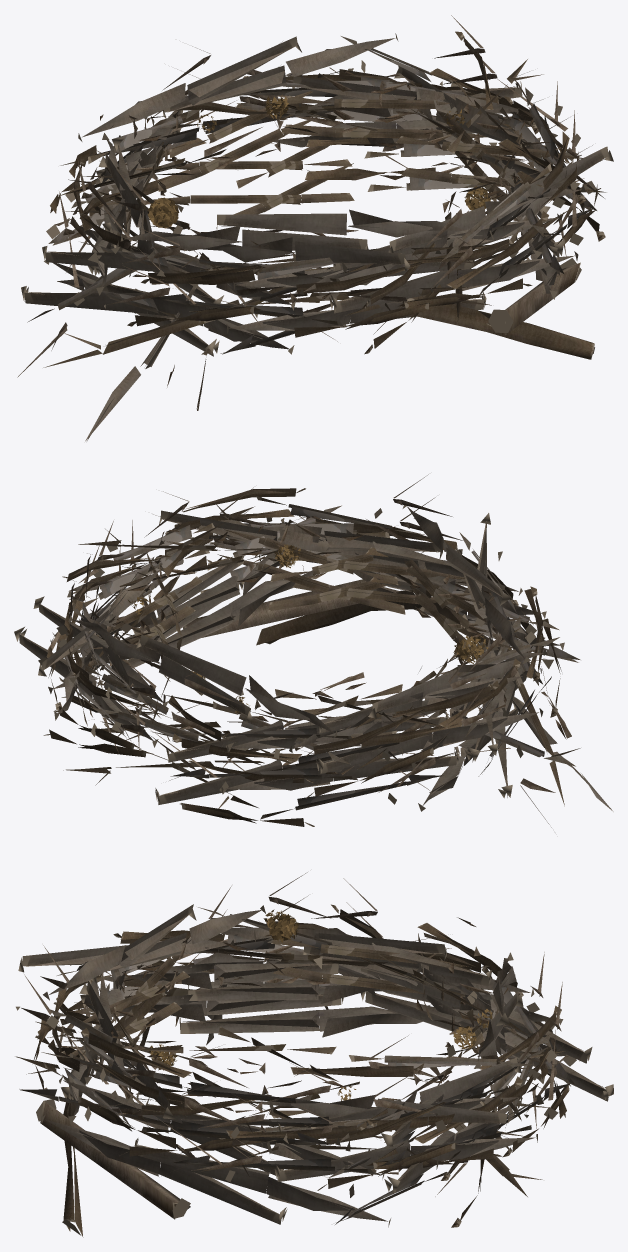
File: nest.glb
3 views of the same model, one above another, from view 1: azimuth 30°, elevation 25°; view 2: azimuth 150°, elevation 25°; view 3: azimuth 270°, elevation 25° (orthographic). The views are drawn at different scales.
Visible parts, largest first — view 1: pCylinder50_Stick_1_Material_0, pCylinder50_Stick_2_Material_0, pCylinder50_Stick_3_Material_0, polySurface87_Stick_4_Material_0; view 2: pCylinder50_Stick_1_Material_0, pCylinder50_Stick_2_Material_0, pCylinder50_Stick_3_Material_0, polySurface87_Stick_4_Material_0; view 3: pCylinder50_Stick_1_Material_0, pCylinder50_Stick_2_Material_0, pCylinder50_Stick_3_Material_0, polySurface87_Stick_4_Material_0.
Boxes of the visible parts, x1=… form: pCylinder50_Stick_1_Material_0: x1=21, y1=33, x2=613, y2=441; pCylinder50_Stick_2_Material_0: x1=43, y1=31, x2=606, y2=367; pCylinder50_Stick_3_Material_0: x1=17, y1=15, x2=604, y2=410; polySurface87_Stick_4_Material_0: x1=147, y1=94, x2=490, y2=228; pCylinder50_Stick_1_Material_0: x1=14, y1=496, x2=613, y2=819; pCylinder50_Stick_2_Material_0: x1=43, y1=488, x2=580, y2=826; pCylinder50_Stick_3_Material_0: x1=38, y1=474, x2=571, y2=827; polySurface87_Stick_4_Material_0: x1=128, y1=544, x2=488, y2=713; pCylinder50_Stick_1_Material_0: x1=18, y1=904, x2=613, y2=1227; pCylinder50_Stick_2_Material_0: x1=15, y1=904, x2=569, y2=1237; pCylinder50_Stick_3_Material_0: x1=16, y1=872, x2=576, y2=1219; polySurface87_Stick_4_Material_0: x1=149, y1=909, x2=492, y2=1100.
Bounding box in the file's own units: 13.65 × 5.62 × 12.72.
Materials: 4 (4 with a texture image).
